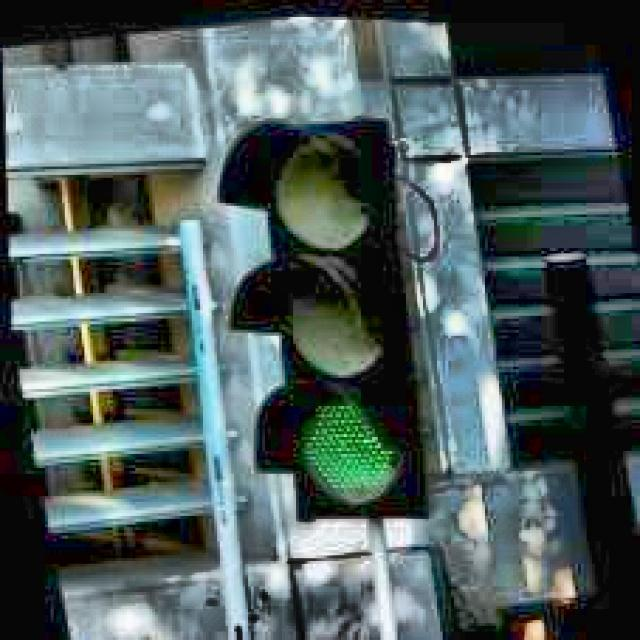green: (192, 99, 462, 533)
